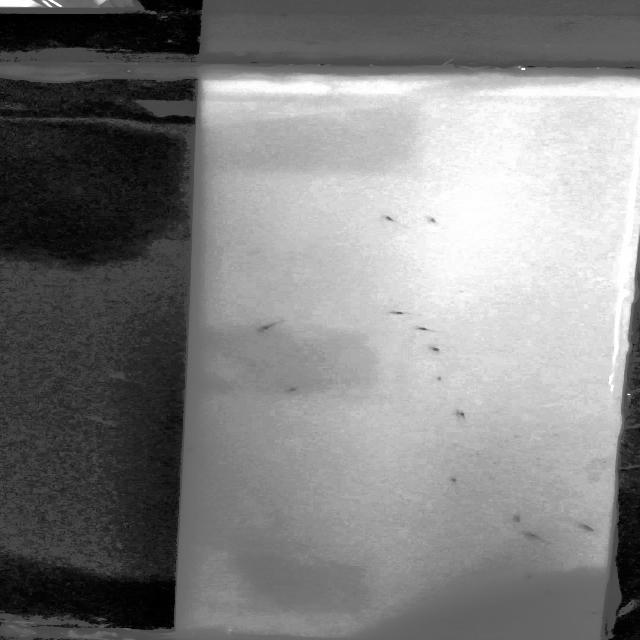shrimp: (522, 531, 554, 545), (521, 571, 544, 589), (256, 319, 284, 333), (434, 373, 454, 392), (577, 520, 604, 534), (281, 382, 311, 394), (387, 308, 418, 318), (454, 407, 471, 424), (536, 588, 564, 598), (413, 325, 443, 334), (510, 515, 533, 526), (446, 474, 466, 486), (582, 609, 607, 617), (424, 345, 445, 354), (425, 216, 442, 224), (386, 216, 401, 222)
